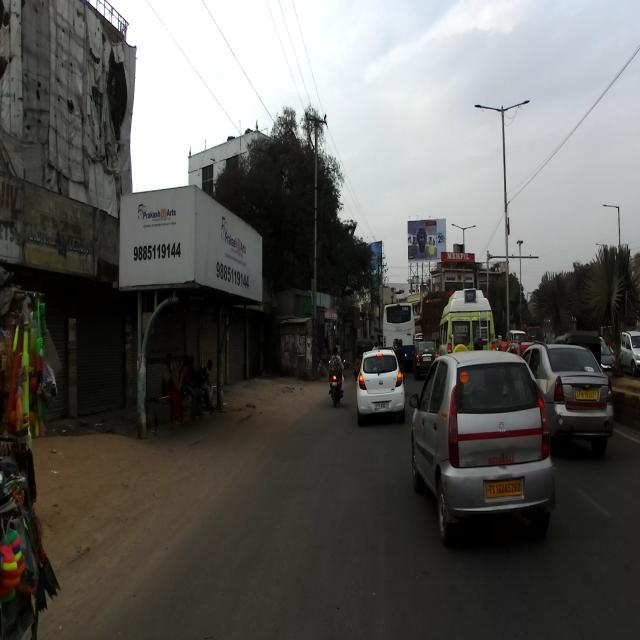car ahead at: (412, 352, 552, 530), (552, 348, 616, 442), (358, 350, 406, 415)
motorcycle ahead at: (325, 336, 348, 410)
